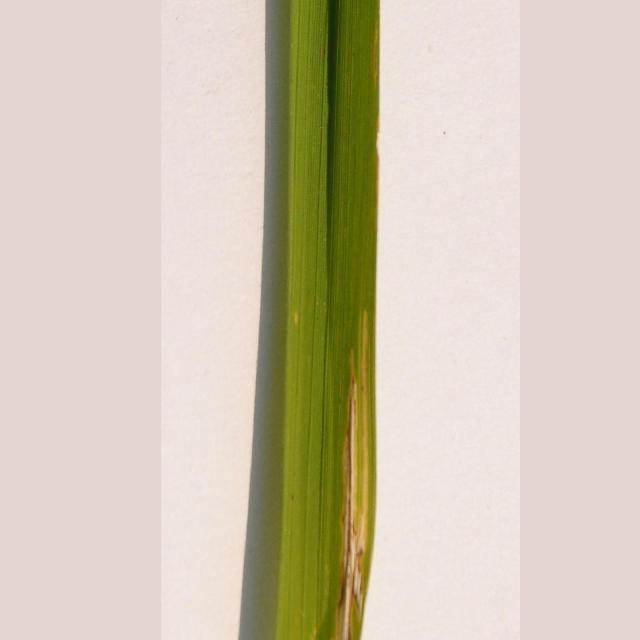Bacterial leaf blight: (239, 0, 396, 636)
